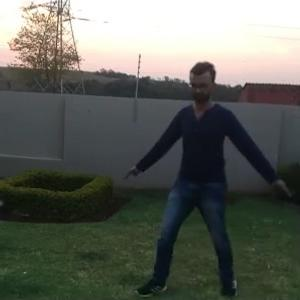land: (128, 83, 276, 274)
